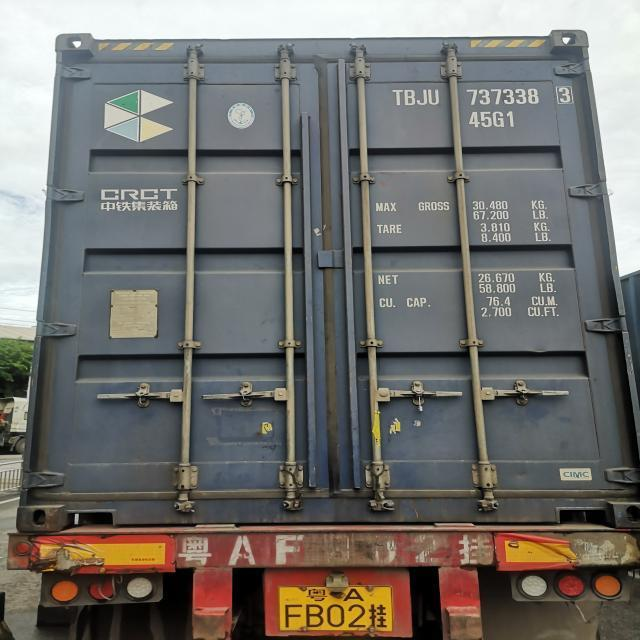ISO: (469, 110, 517, 130)
container_number: (399, 88, 564, 106)
